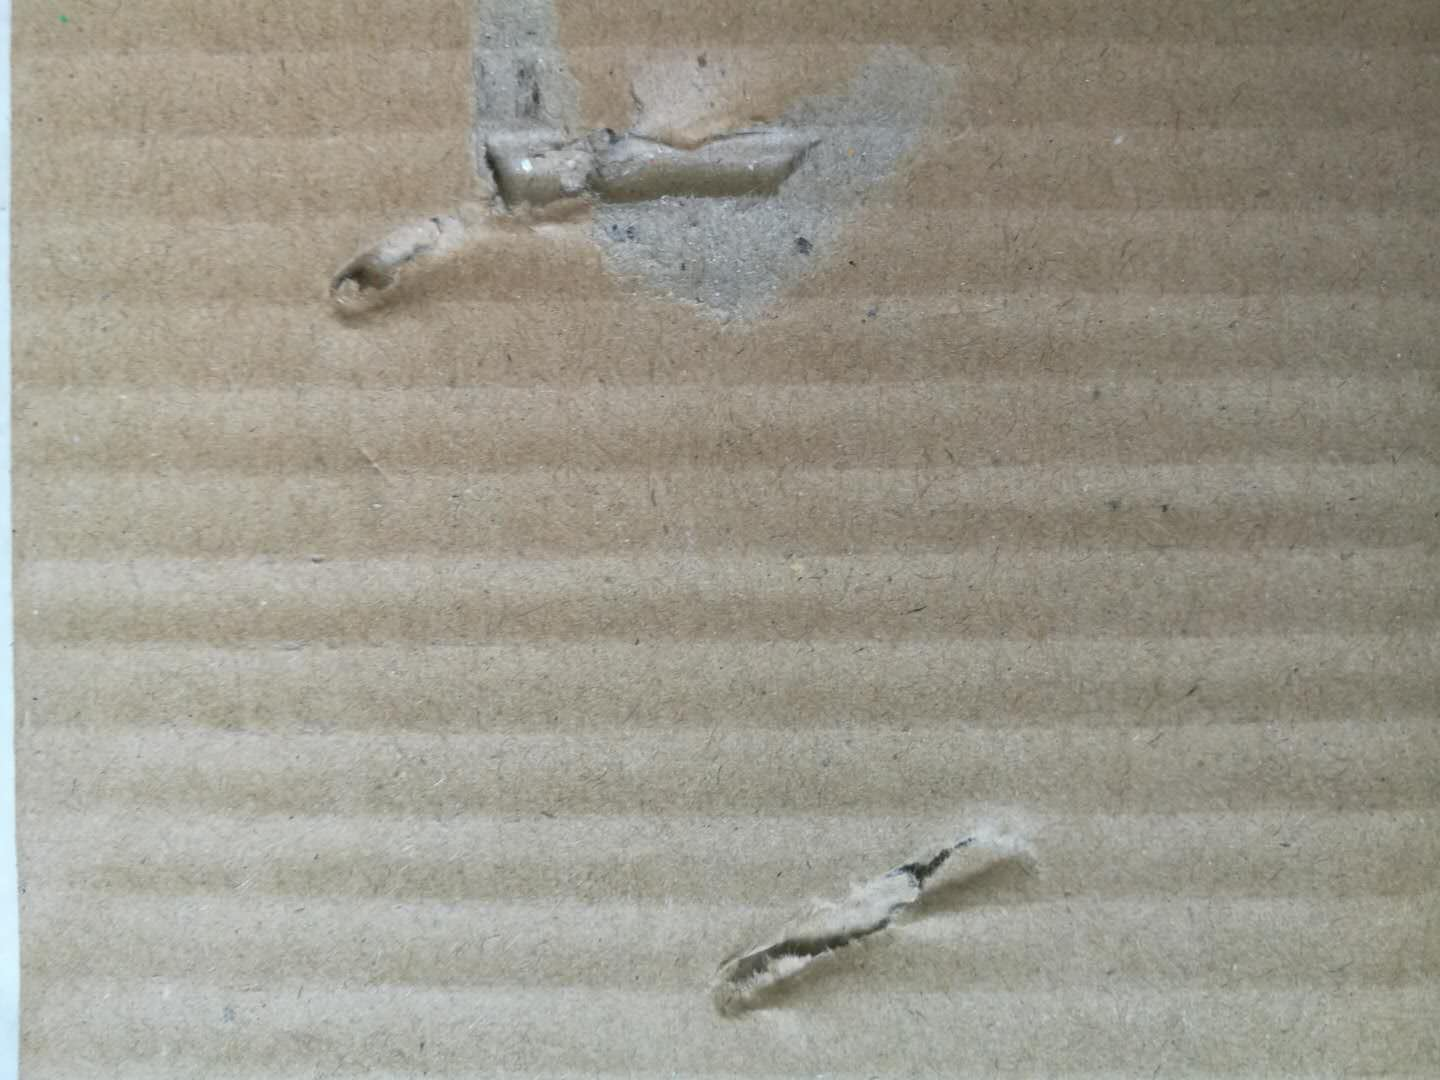defect: (266, 5, 1003, 358), (687, 792, 1073, 1033)
